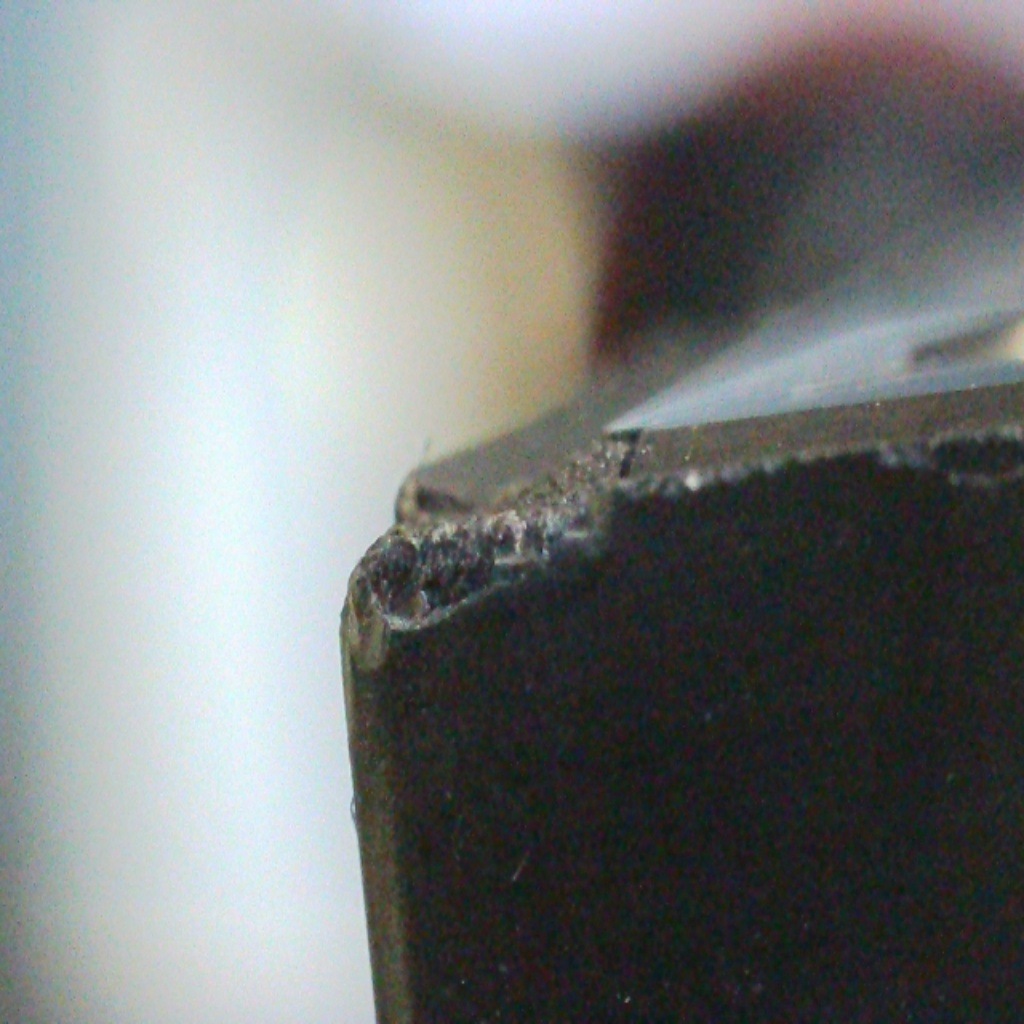flank_wear: (364, 511, 601, 631)
